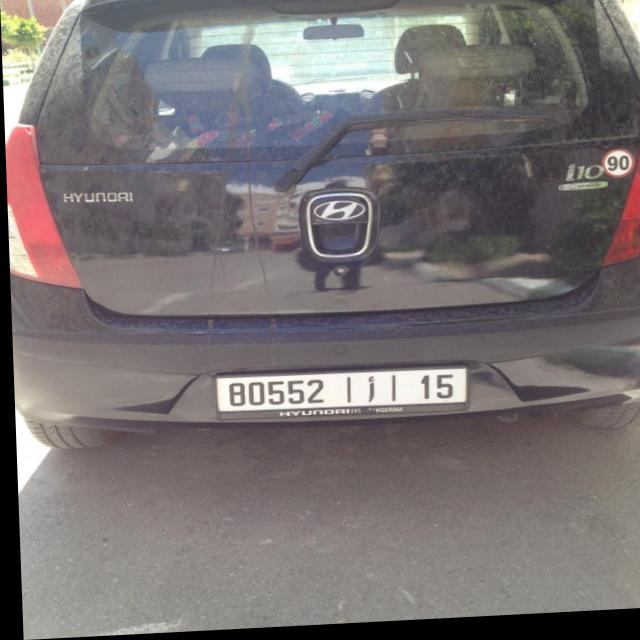License-Plate: (213, 372, 465, 422)
